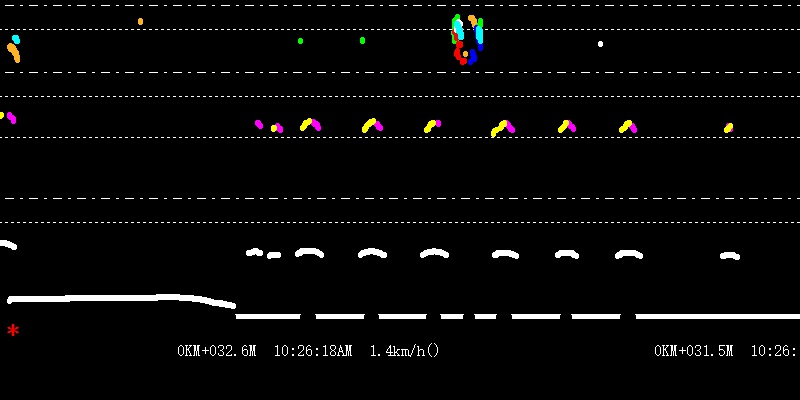J: (449, 3, 484, 66)
face_up: (134, 12, 149, 34)
star: (5, 321, 19, 337)
y_p: (292, 114, 648, 271)
